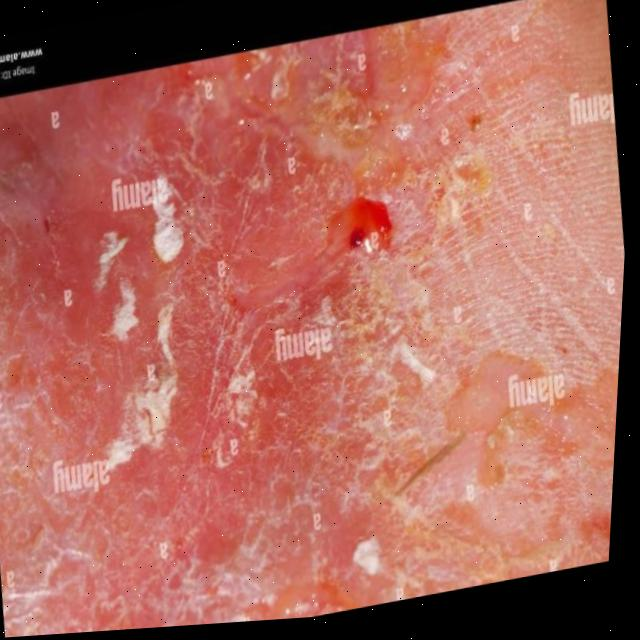Eczema: (0, 40, 500, 637)
